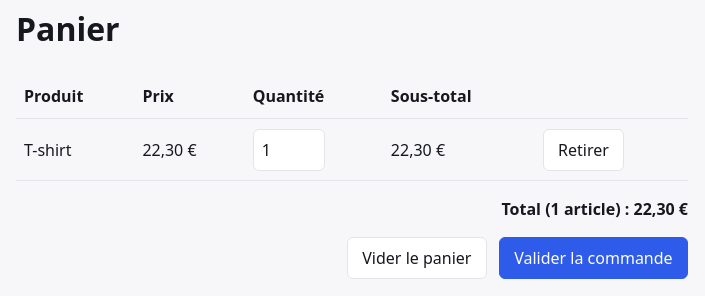
Test: CartPage › met à jour le total quand la quantité change
Replace the text in the number field named "quantité pour t-shirt" with "4" at coordinates (289, 150), box [253,129,325,171]
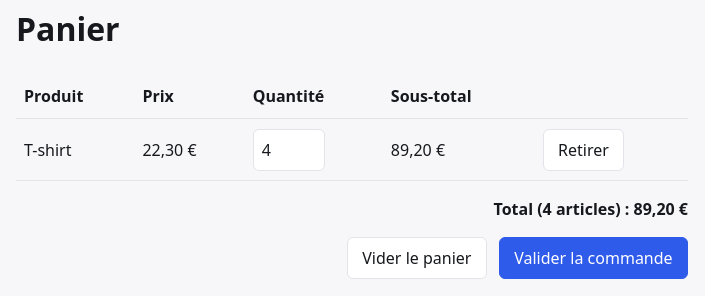
Check: the text with test id "cart-total" shows "89,20", box [634,198,688,220]
